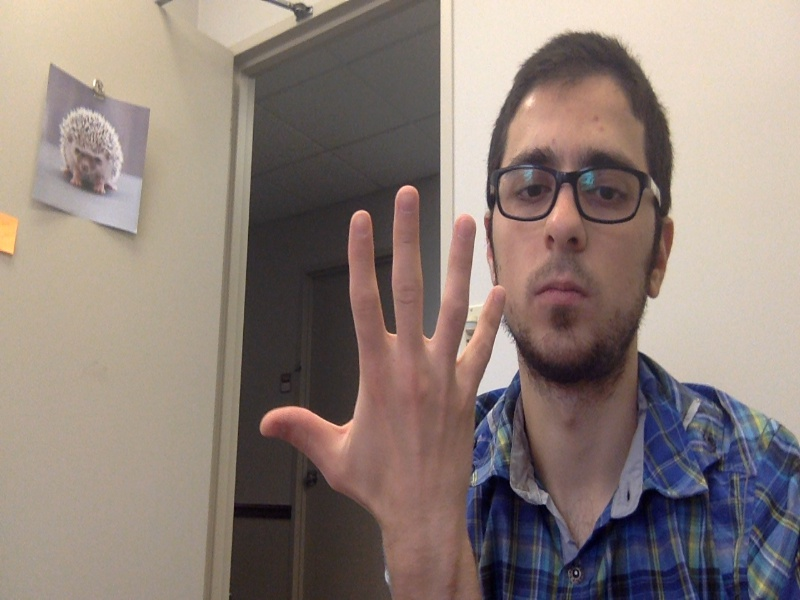5-hand: (259, 182, 507, 537)
